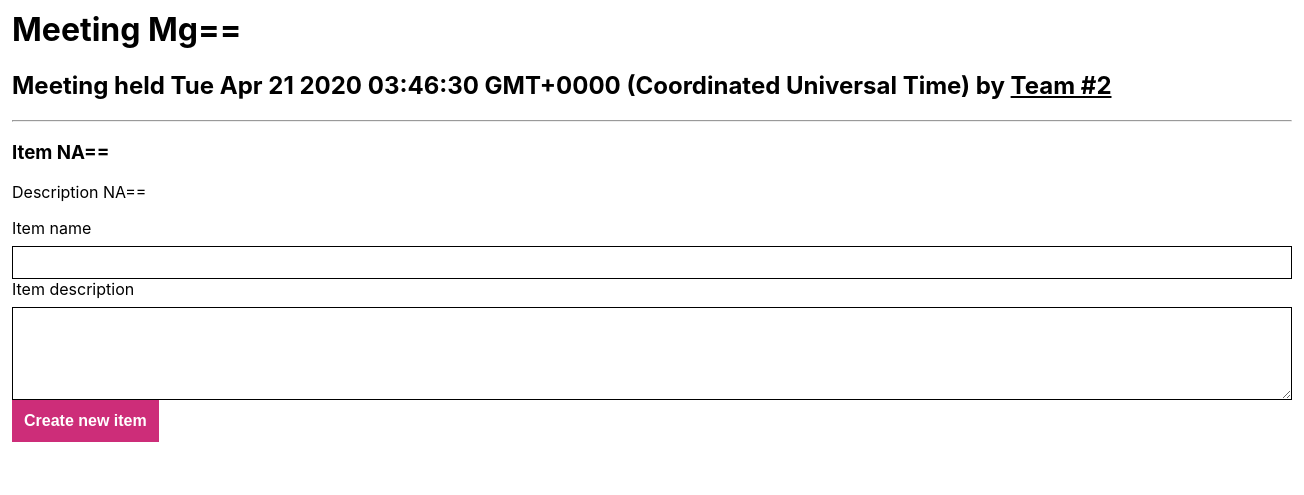
Scenario: Shows an error message when creating an item fails
This screenshot has width=1304, height=495.
Click the button "Create new item" at x=85, y=421, box [12,400,159,442]
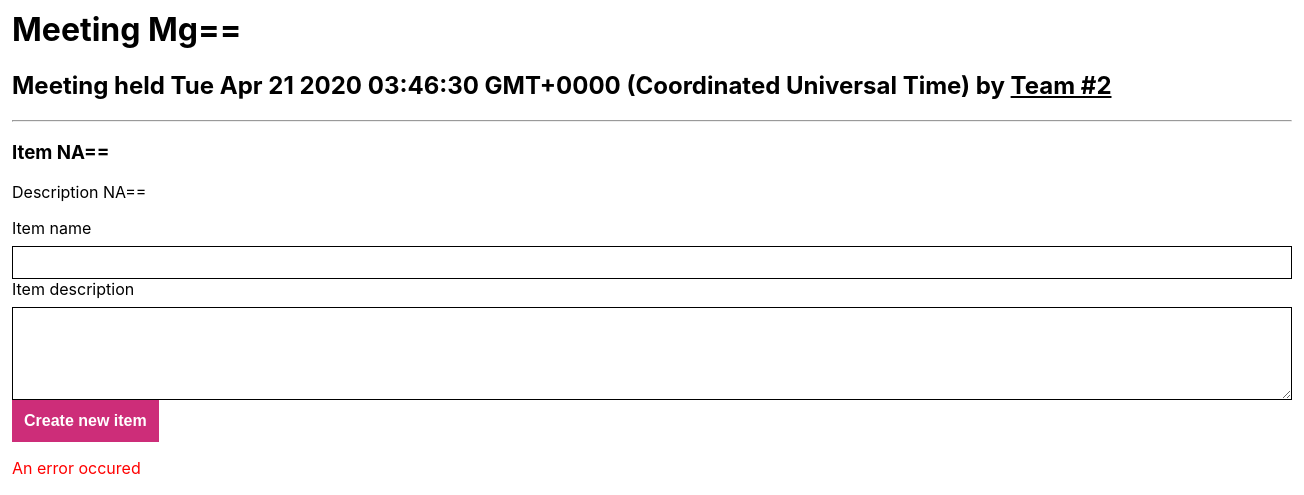
Expected: the text "An error occured" is shown, [12,458,141,478]
